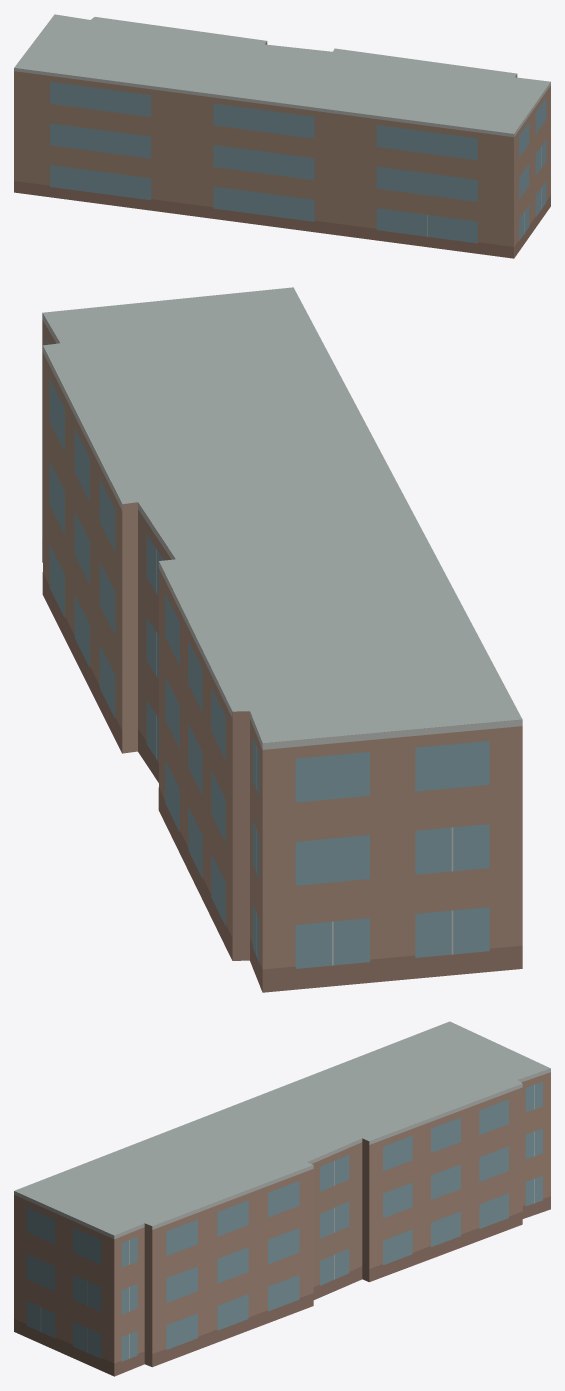
Rendered from survey-upis-32678597.glb.
3 views of the same model, one above another, from view 1: azimuth 30°, elevation 25°; view 2: azimuth 150°, elevation 25°; view 3: azimuth 270°, elevation 25° (orthographic). The views are drawn at different scales.
Parts seen in each view (by area): view 1: survey-upis-32678597.tmp; view 2: survey-upis-32678597.tmp; view 3: survey-upis-32678597.tmp.
Part boxes in pixels (x1=…): survey-upis-32678597.tmp: x1=14, y1=14, x2=550, y2=258; survey-upis-32678597.tmp: x1=42, y1=287, x2=522, y2=992; survey-upis-32678597.tmp: x1=14, y1=1021, x2=550, y2=1376.
Bounding box in the file's own units: 29.84 × 9.15 × 31.59.
